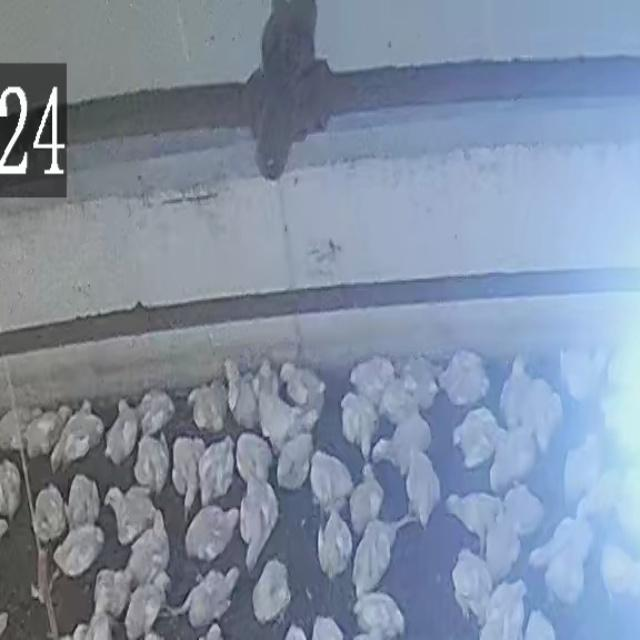chicken: (530, 512, 594, 600), (501, 358, 562, 448), (176, 564, 239, 632), (442, 491, 503, 556), (351, 516, 398, 596), (238, 475, 277, 569), (449, 550, 498, 624), (82, 568, 132, 640), (51, 402, 102, 472), (489, 423, 539, 494), (184, 504, 238, 568), (126, 514, 172, 588), (479, 507, 522, 585), (437, 348, 491, 410), (384, 411, 434, 477), (52, 522, 106, 580), (251, 556, 294, 628), (403, 447, 441, 528), (558, 345, 610, 404), (453, 407, 502, 469), (100, 486, 157, 539), (121, 576, 168, 640), (308, 448, 354, 512), (350, 590, 408, 639), (258, 385, 301, 451), (481, 578, 528, 638), (562, 432, 600, 505), (317, 506, 354, 580), (598, 540, 640, 602), (340, 392, 380, 456), (103, 399, 141, 466), (348, 468, 385, 536), (500, 482, 543, 539), (586, 466, 629, 523), (282, 363, 327, 417), (276, 432, 316, 492), (187, 378, 228, 436), (346, 356, 394, 405), (22, 409, 68, 460), (202, 436, 237, 503), (397, 356, 440, 410), (378, 374, 422, 425), (172, 438, 202, 504), (235, 431, 271, 485), (136, 388, 176, 436), (228, 371, 260, 430), (66, 476, 99, 532), (136, 429, 163, 494), (31, 485, 61, 537), (252, 358, 282, 406), (0, 460, 23, 522), (0, 407, 30, 452), (521, 608, 558, 640), (309, 614, 348, 638)
